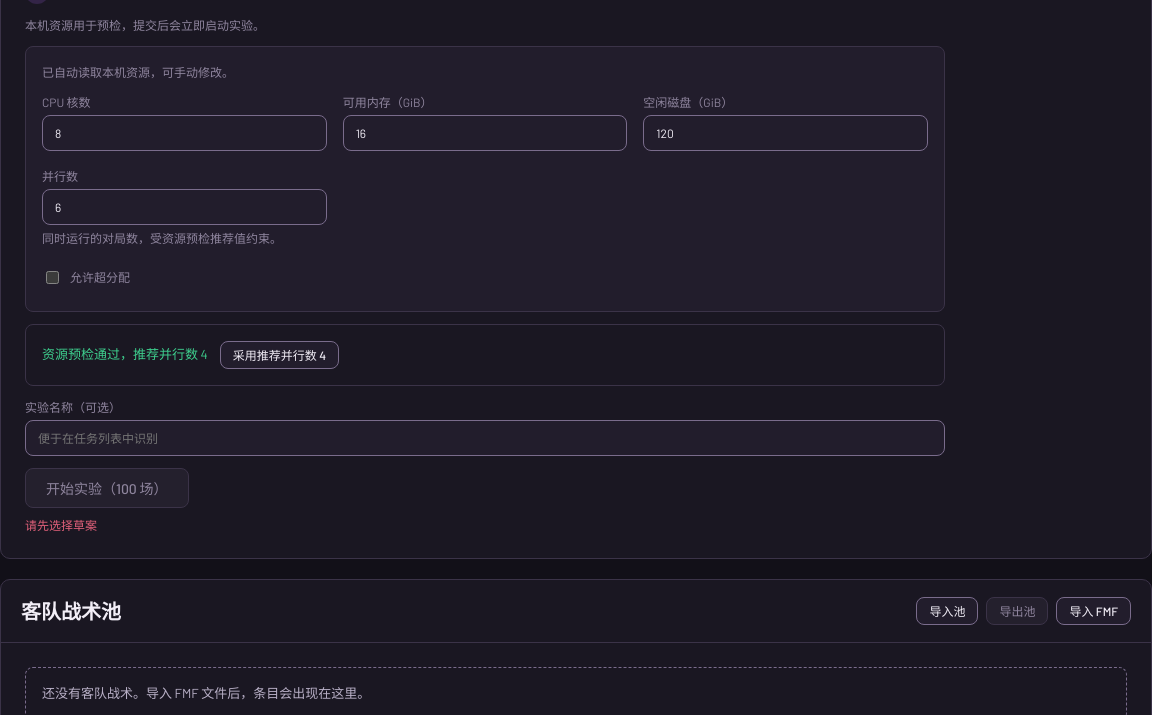
Scenario: ExperimentsPage › 资源预检通过时展示推荐并行数并可一键采用
(page scrolled)
Expected: the text "资源预检通过，推荐并行数 4" is shown, [42,345,208,365]
Click the button "采用推荐并行数 4" at x=279, y=355, box [220,341,339,369]
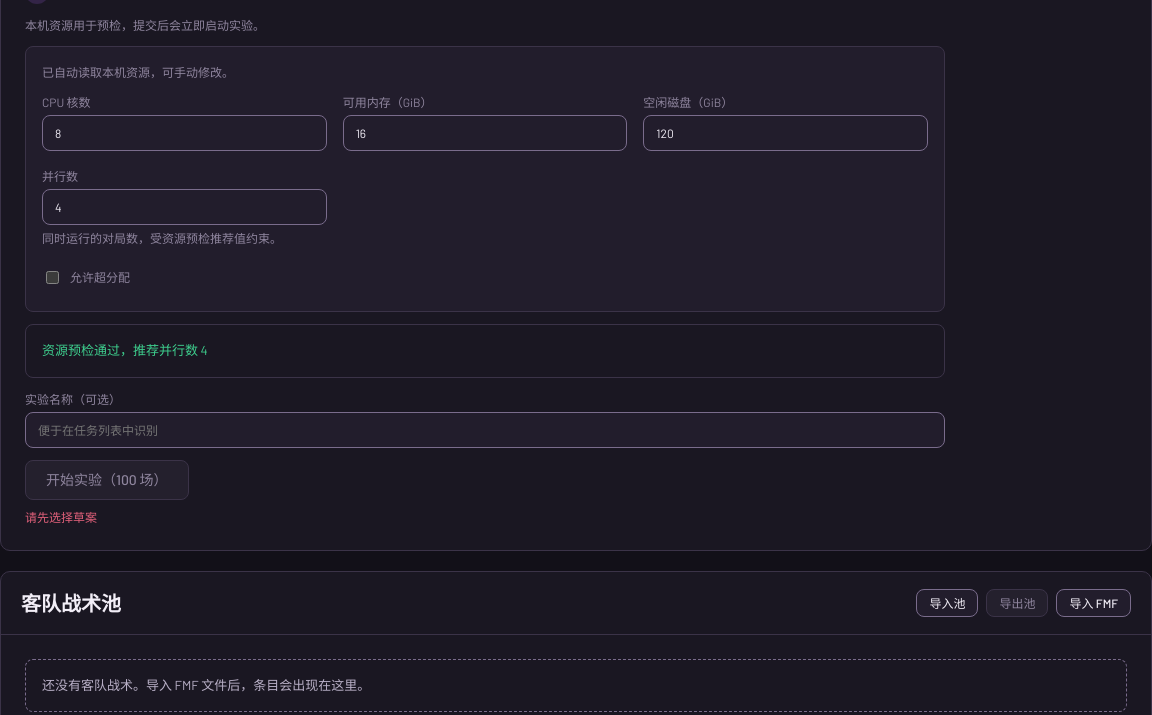
Now the number field labelled "并行数" holds "4", box [42,189,327,225]
